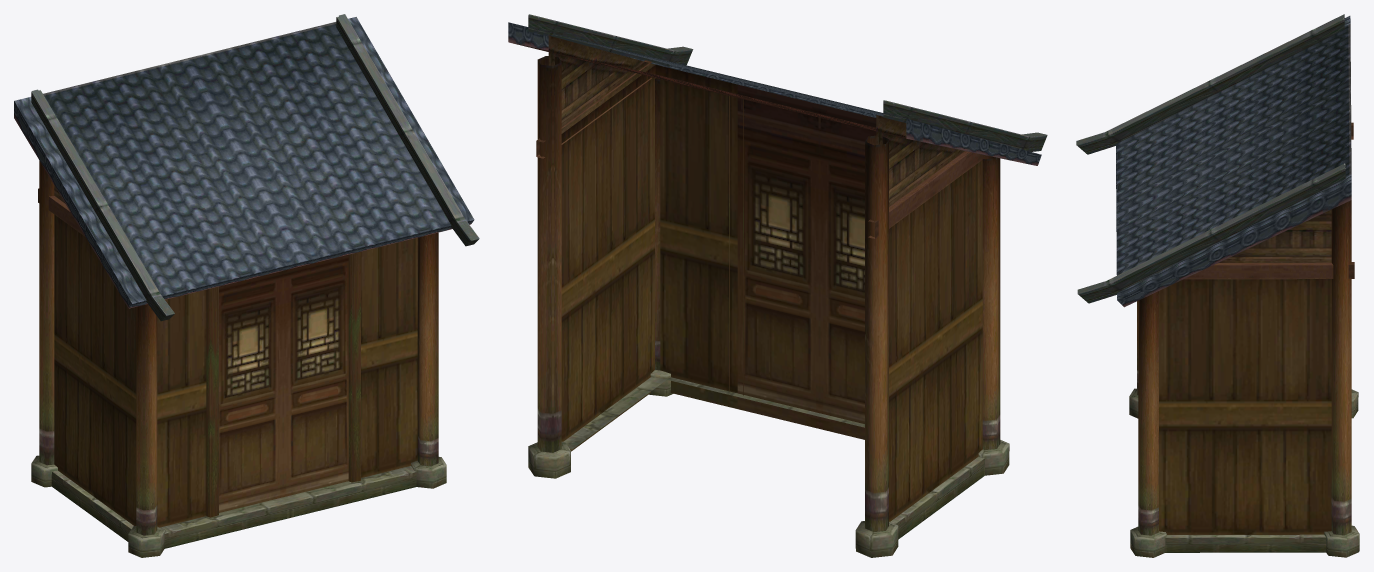
Rendered from Yland3_fzi_01 Yland3.FBX.
3 renders of one model, left to right at view 1: azimuth 30°, elevation 25°; view 2: azimuth 150°, elevation 25°; view 3: azimuth 270°, elevation 25°, orthographic. The views are drawn at different scales.
Parts seen in each view (by area): view 1: Yland3_fzi_01 Yland3; view 2: Yland3_fzi_01 Yland3; view 3: Yland3_fzi_01 Yland3.
Part boxes in pixels (x1,y1,x2,y2): Yland3_fzi_01 Yland3: (14,14,479,557); Yland3_fzi_01 Yland3: (508,14,1047,557); Yland3_fzi_01 Yland3: (1076,14,1359,557).
Size of the model in its own units: 2.44 by 2.66 by 1.75.
